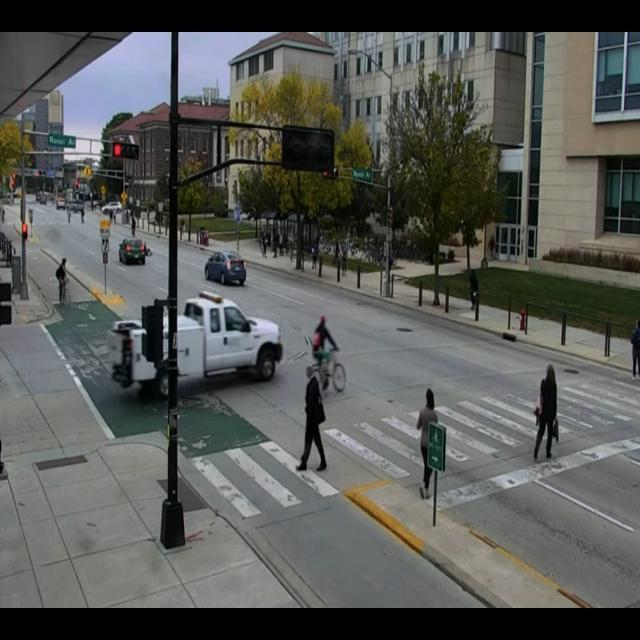Walking: (34, 228, 85, 336), (438, 251, 494, 331), (458, 246, 501, 329)
crossing: (288, 350, 361, 522), (302, 266, 373, 421), (394, 356, 454, 518), (505, 358, 579, 475)
standing: (611, 281, 640, 407)
